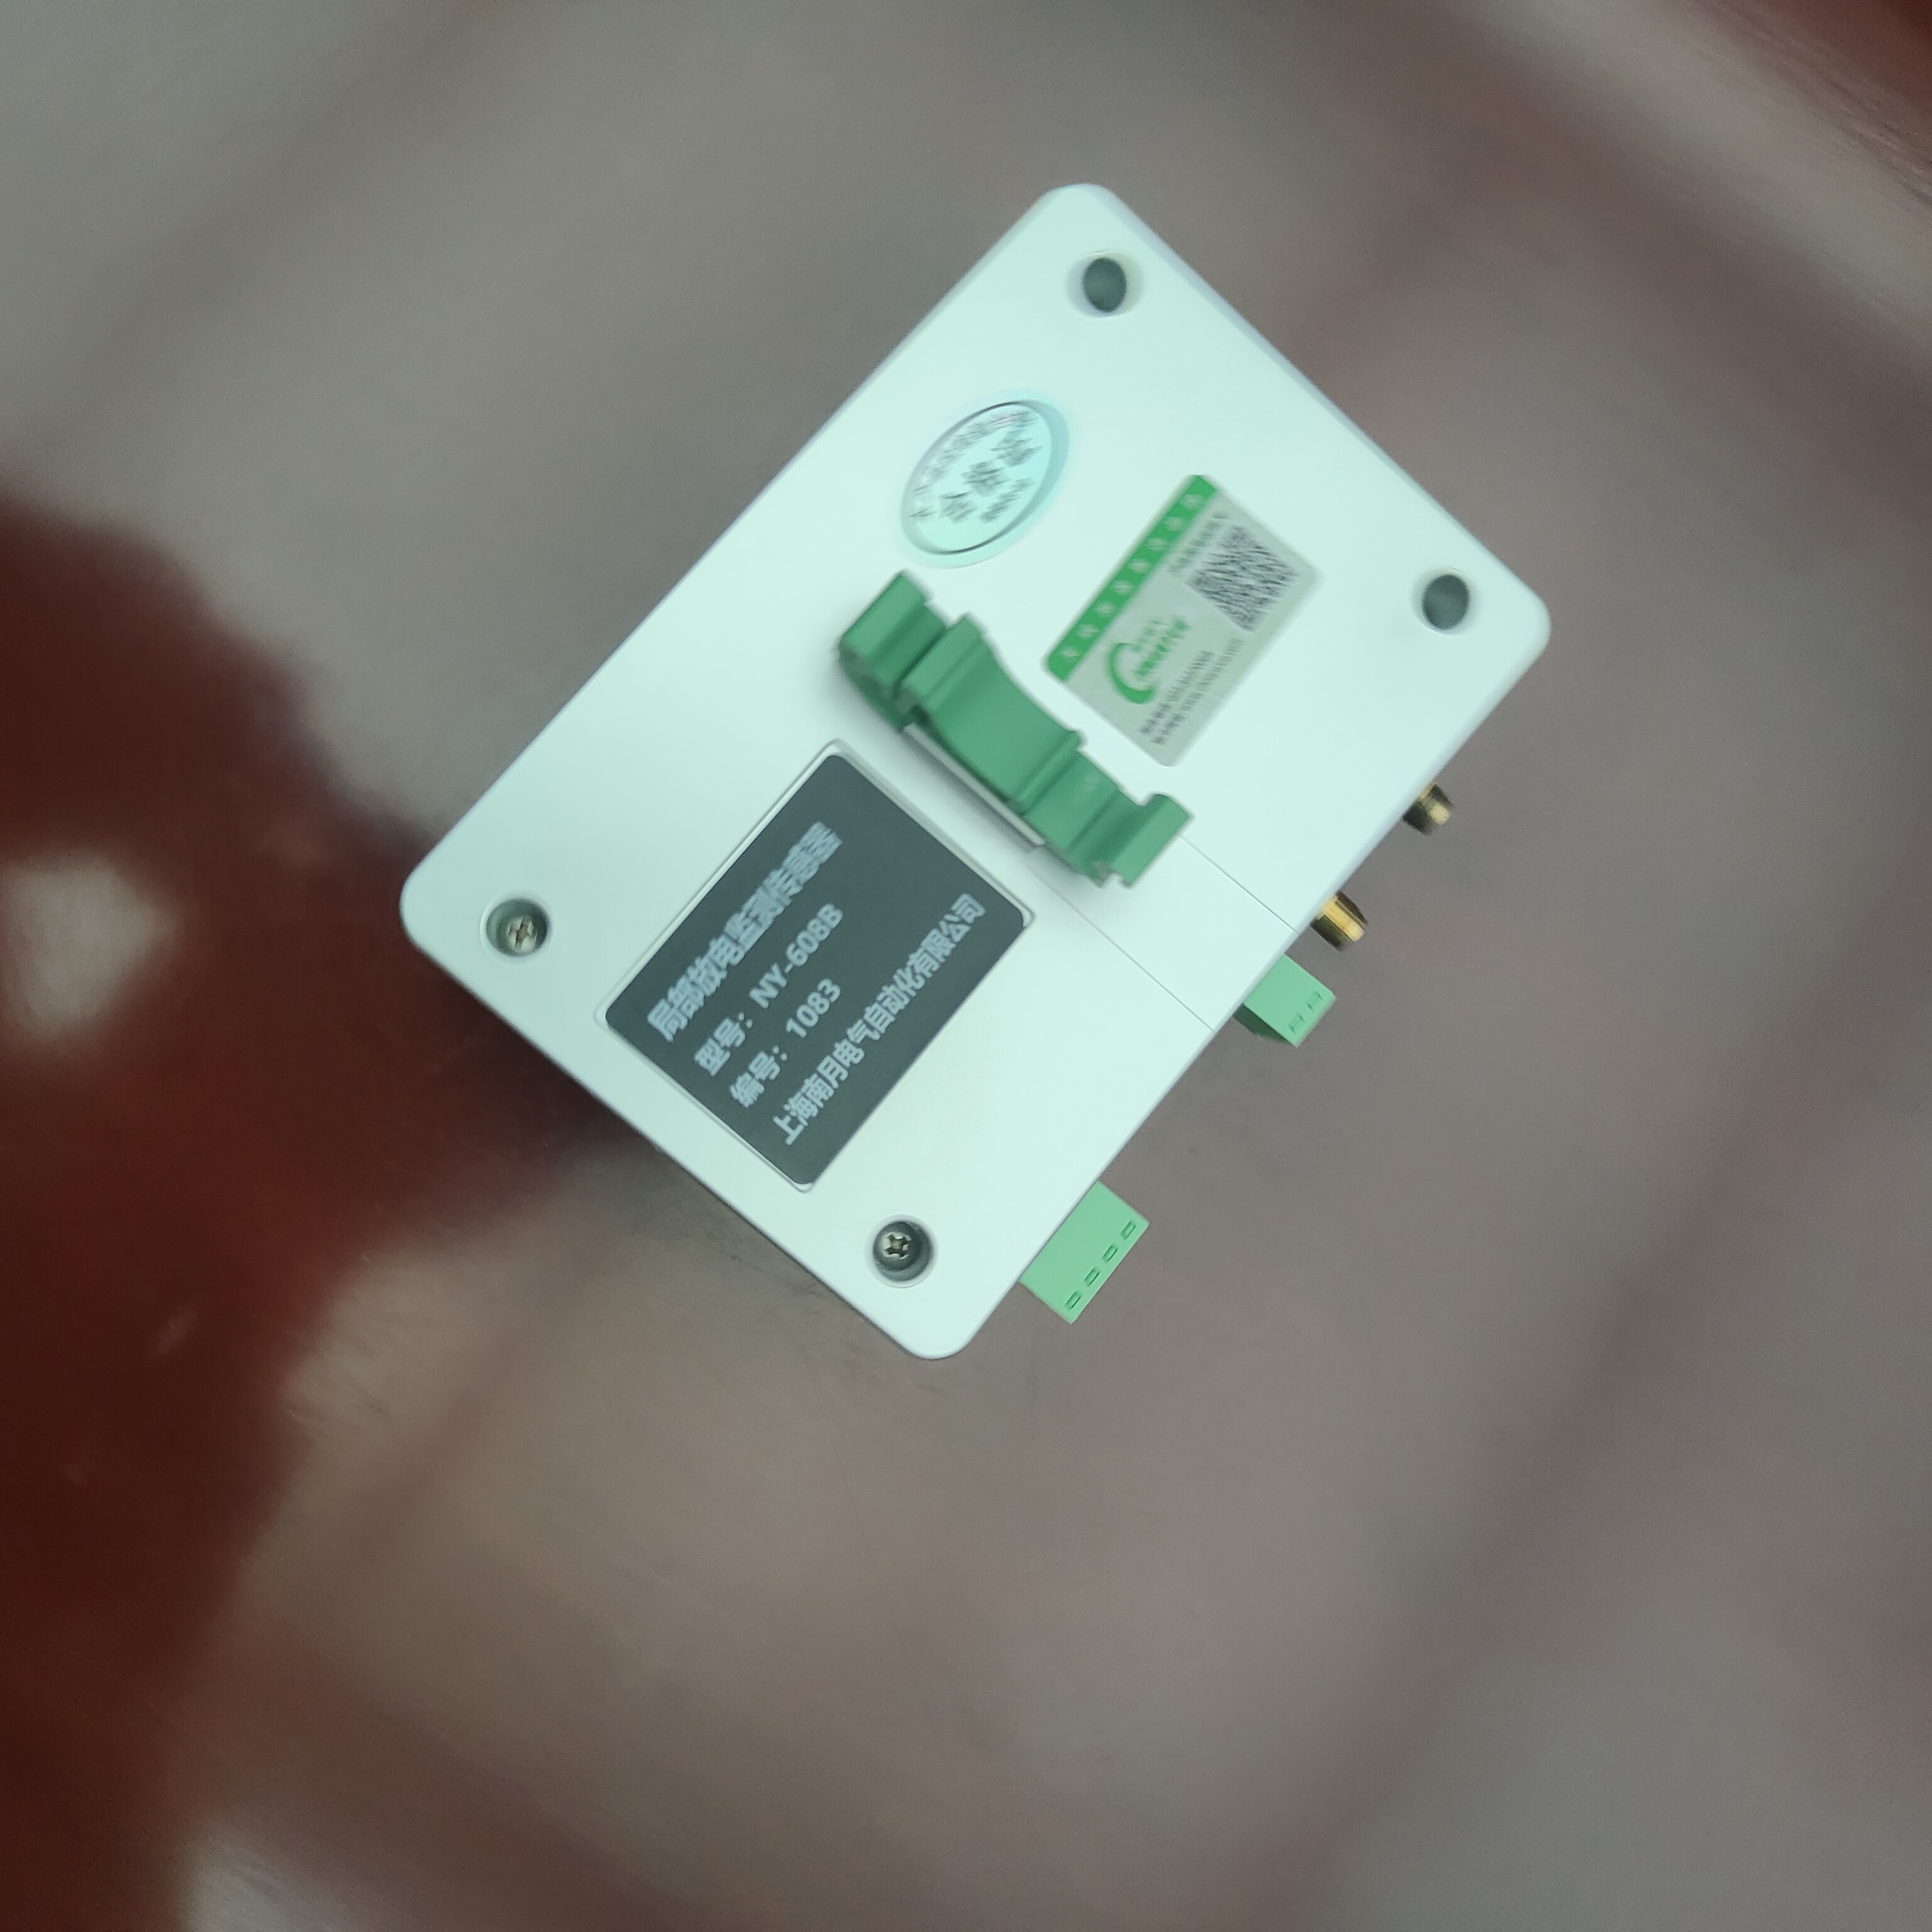jbfdjc: (403, 177, 1617, 1384)
